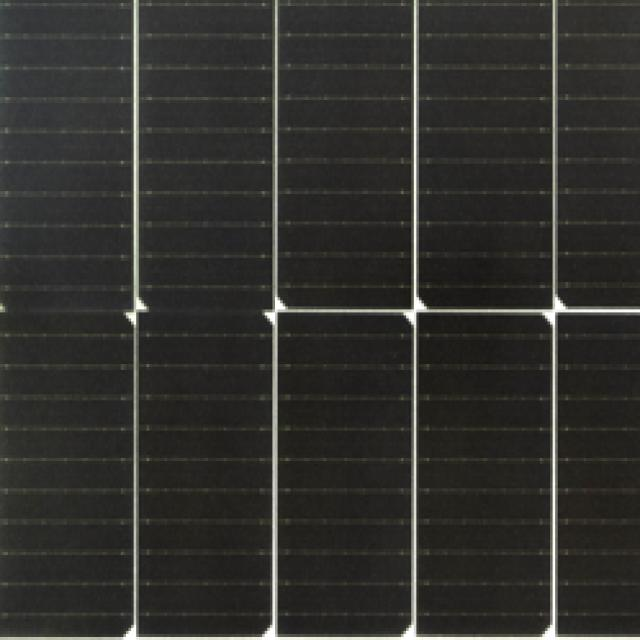CELL SHORT: (7, 292, 131, 326), (144, 295, 265, 326)
